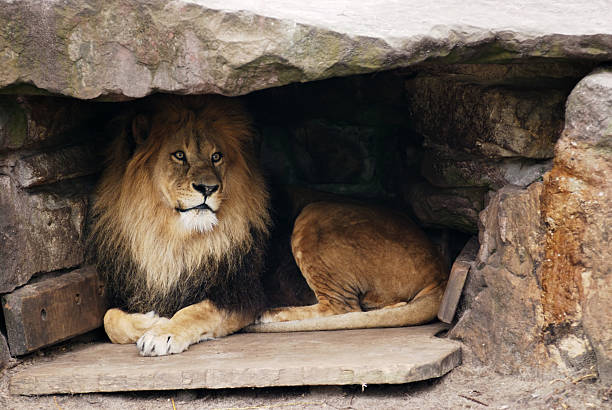lion: (88, 102, 282, 323)
